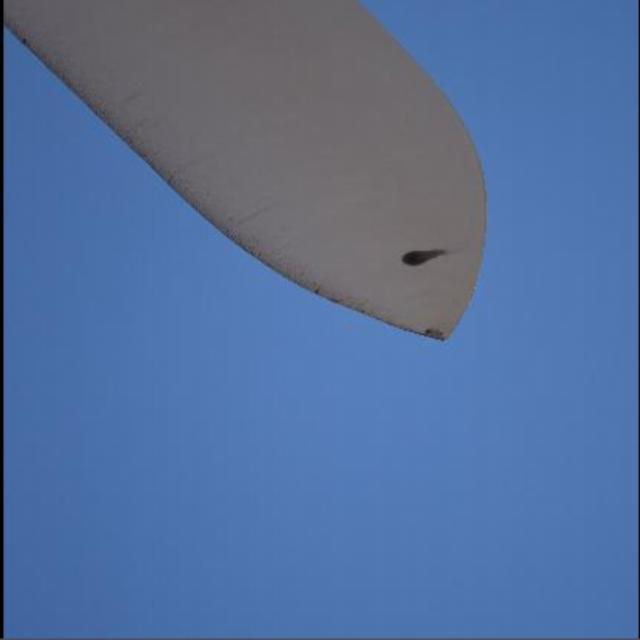Burn Mark: (397, 247, 450, 264)
